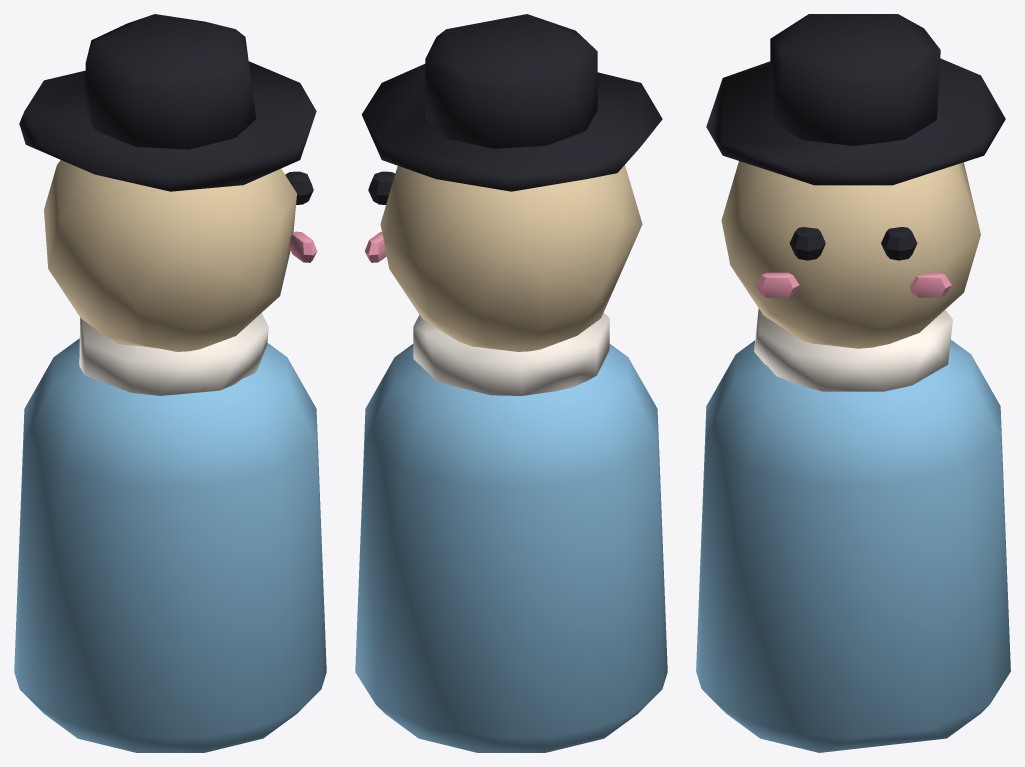
Rendered from peg_c.glb.
3 views of the same model, side by side, from view 1: azimuth 30°, elevation 25°; view 2: azimuth 150°, elevation 25°; view 3: azimuth 270°, elevation 25° (orthographic).
Parts seen in each view (by area): view 1: peg_c; view 2: peg_c; view 3: peg_c.
Part boxes in pixels (x1,y1,x2,y2): peg_c: [14, 14, 326, 752]; peg_c: [355, 14, 667, 752]; peg_c: [696, 14, 1010, 752].
Bounding box in the file's own units: 0.31 × 0.716 × 0.31.
1 material, 1 textured.
